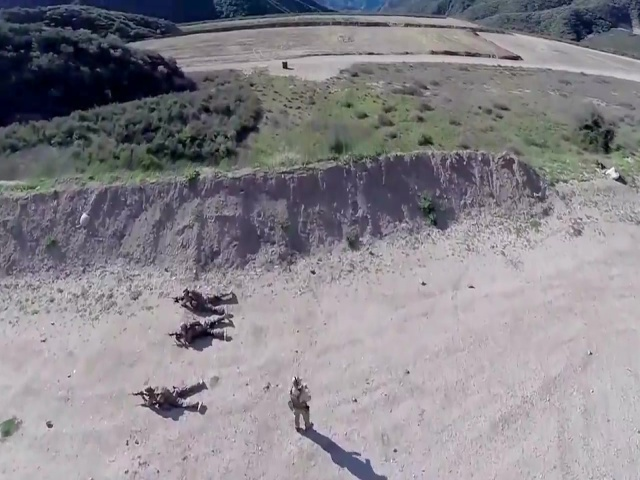person: (131, 379, 209, 417), (168, 314, 234, 351), (170, 288, 237, 314), (285, 375, 311, 434)
